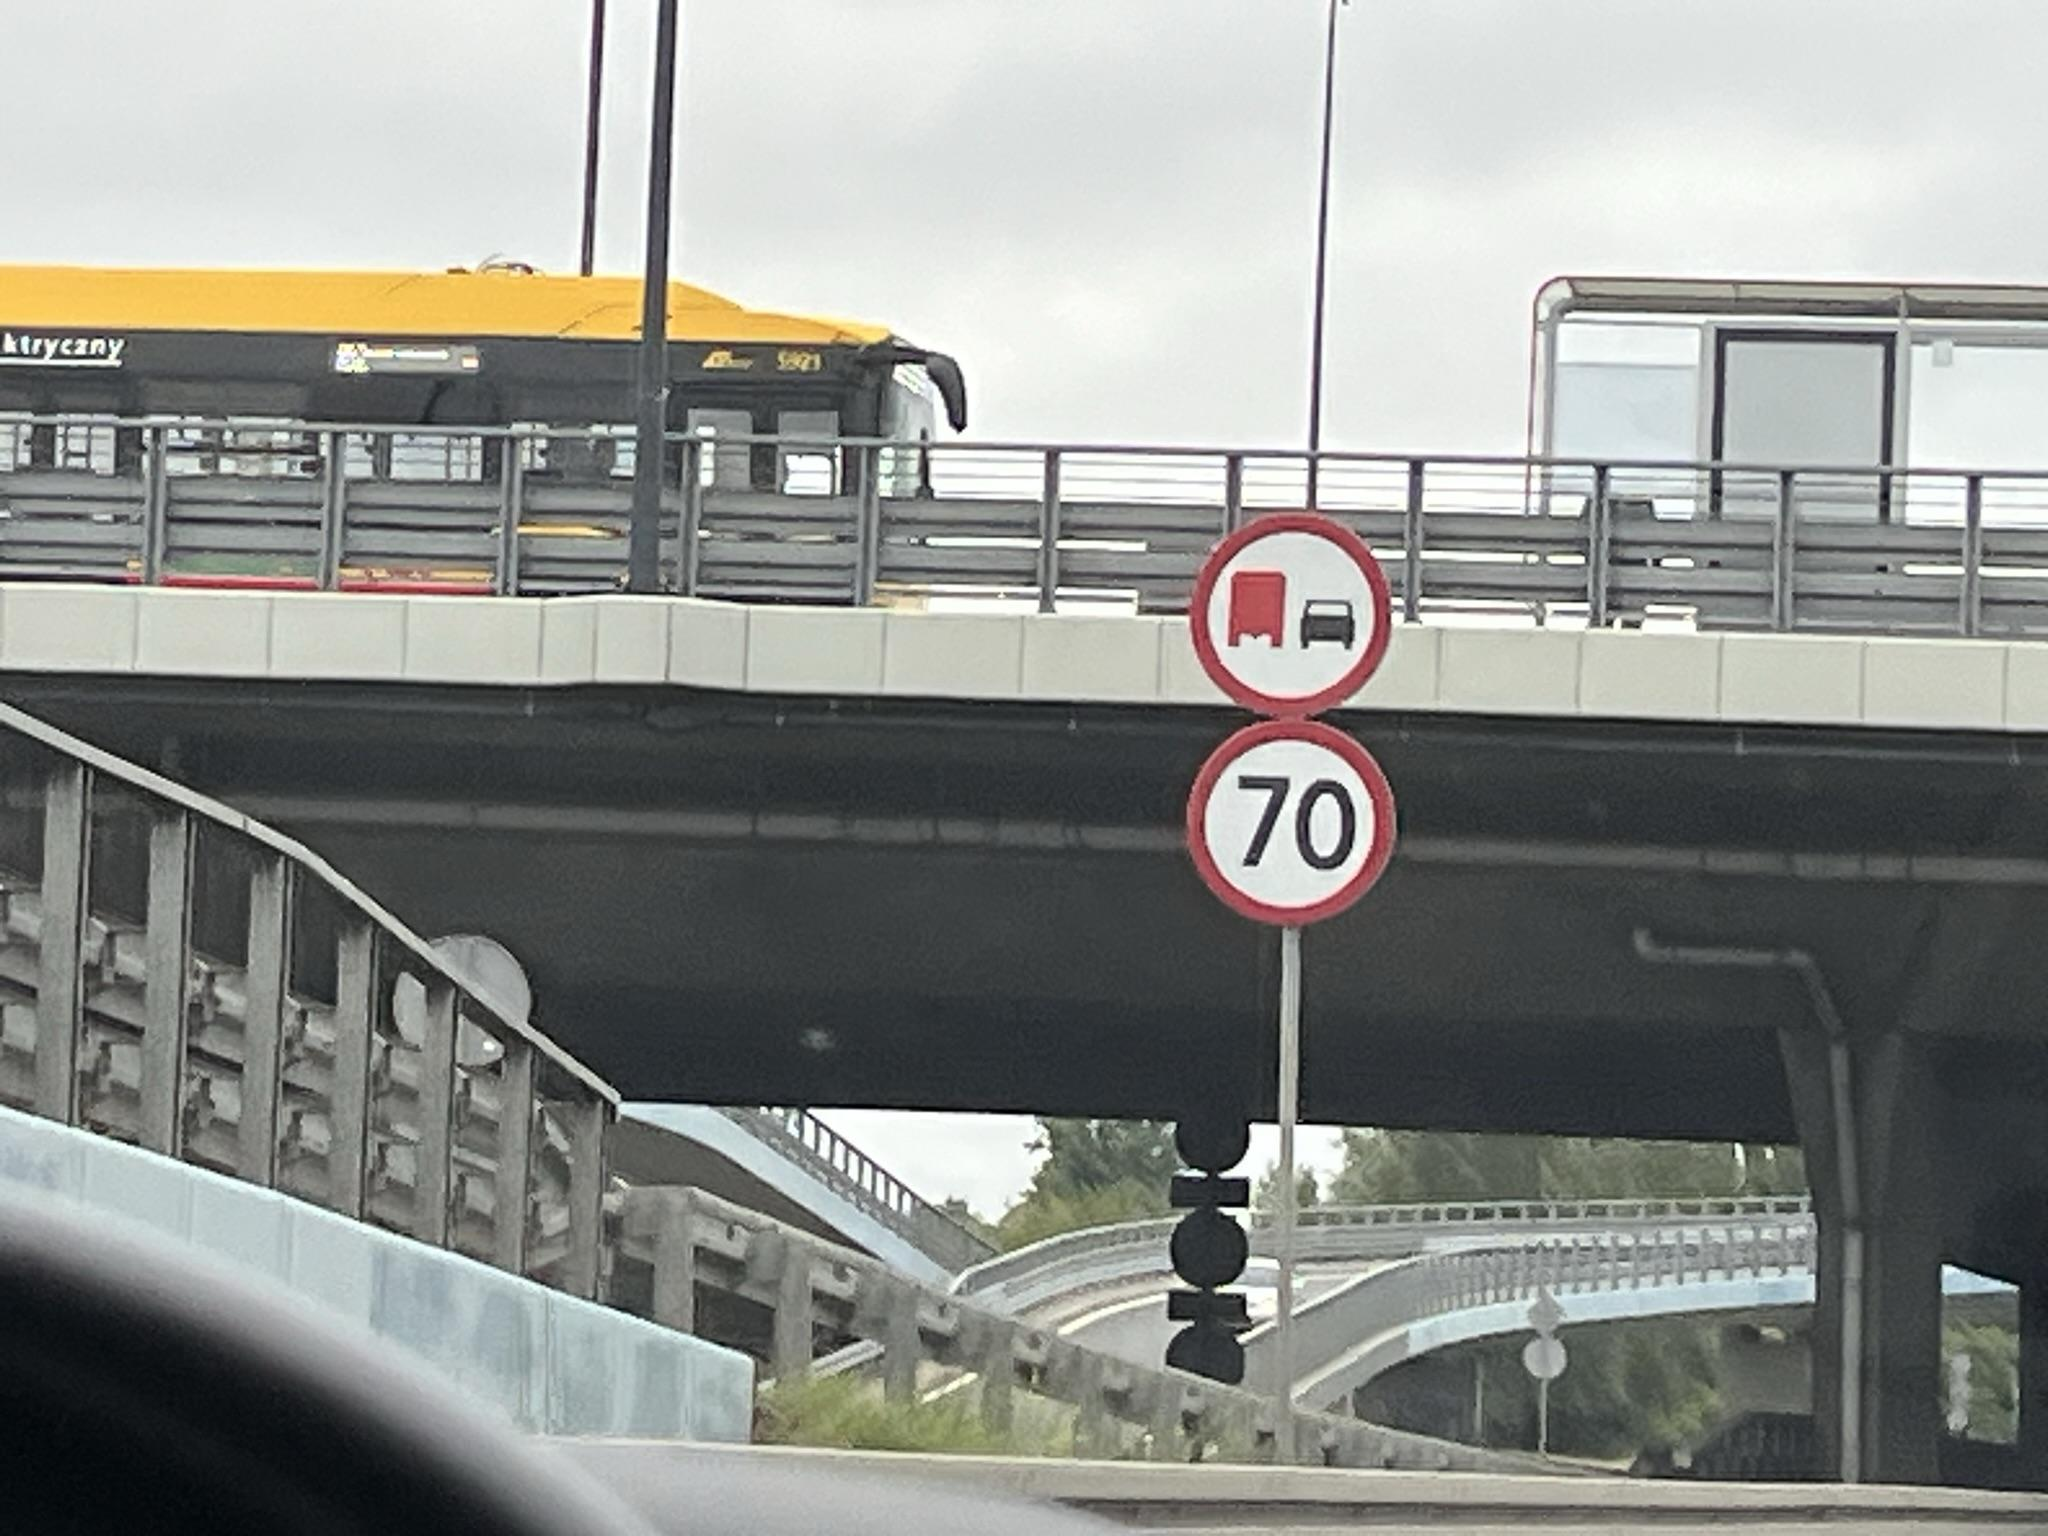prohibitory: (1182, 720, 1400, 929), (1188, 507, 1393, 720)
